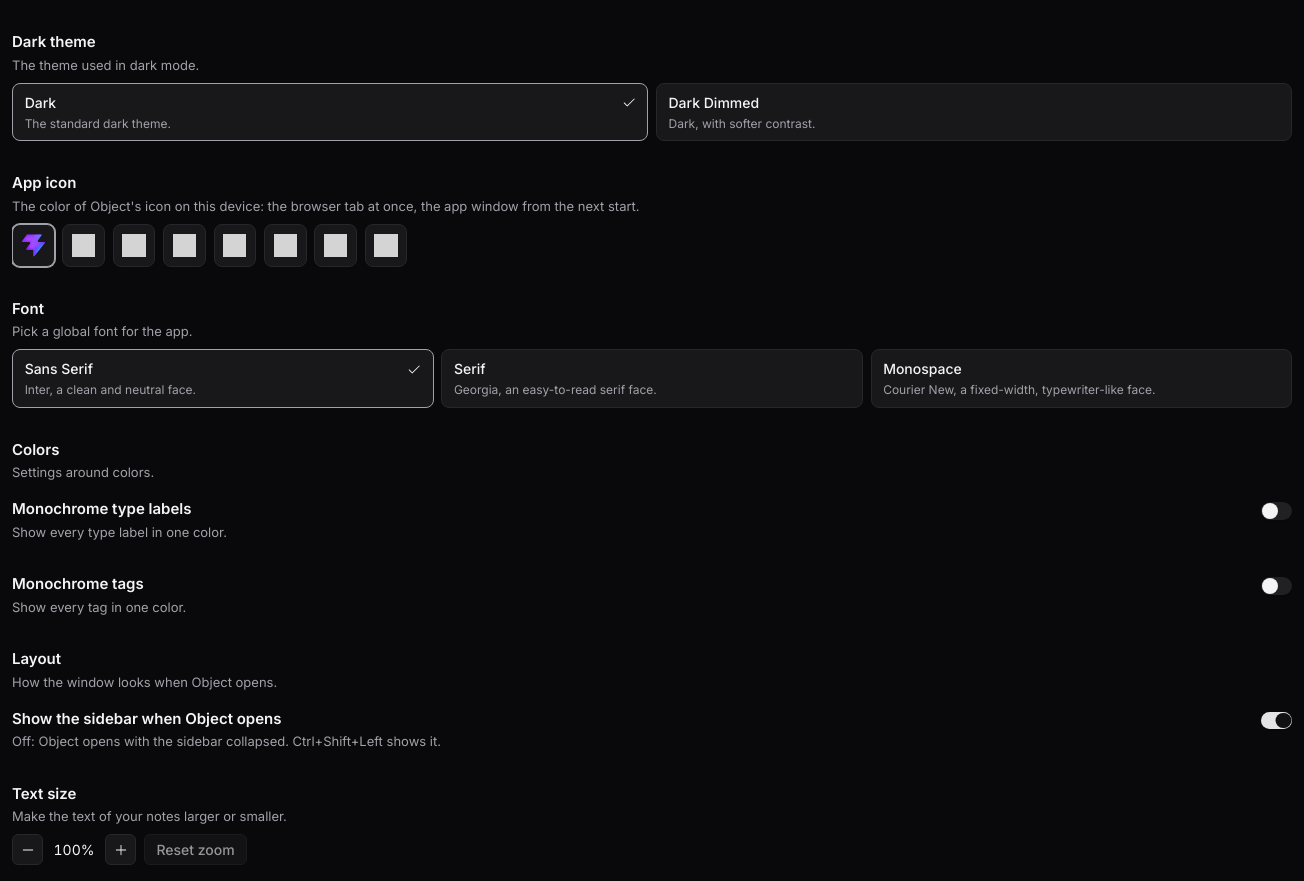
it: AppearanceSection › test text size zooms in and out in 5% steps and resets
Later steps or results of the test are not shown.
(page scrolled)
Expected: the text "100%" is shown, x1=51 y1=839 x2=97 y2=860
Expected: the button "Reset zoom" is disabled, x1=144 y1=834 x2=247 y2=865
Click the button named "Zoom in" at (120, 850), box x1=105 y1=834 x2=136 y2=865
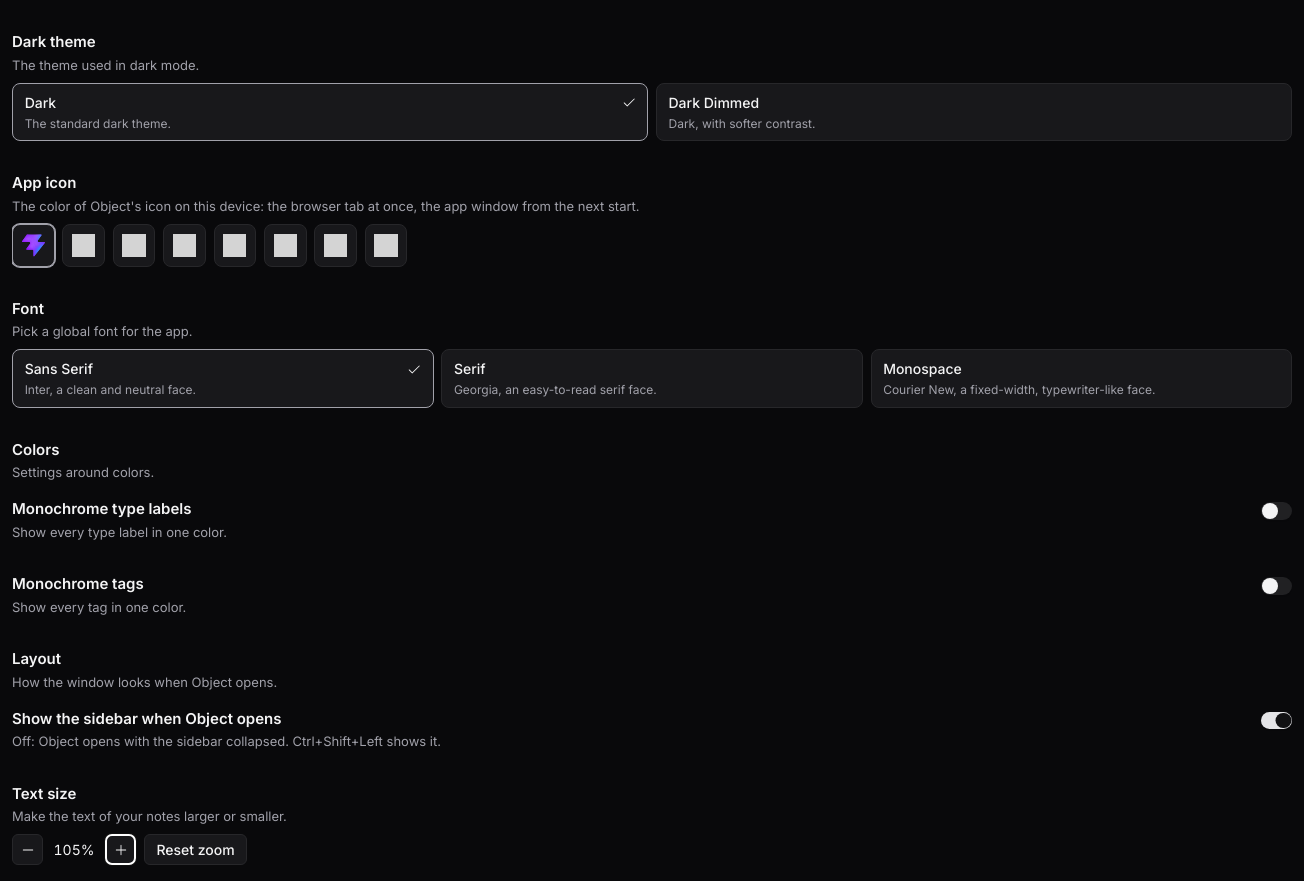
Expected: the text "105%" is shown, x1=51 y1=839 x2=97 y2=860
